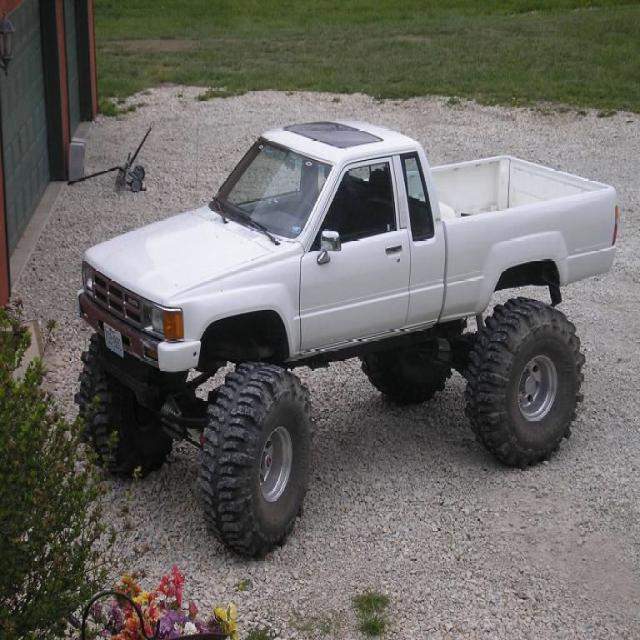light_vehicle: (68, 109, 630, 562)
